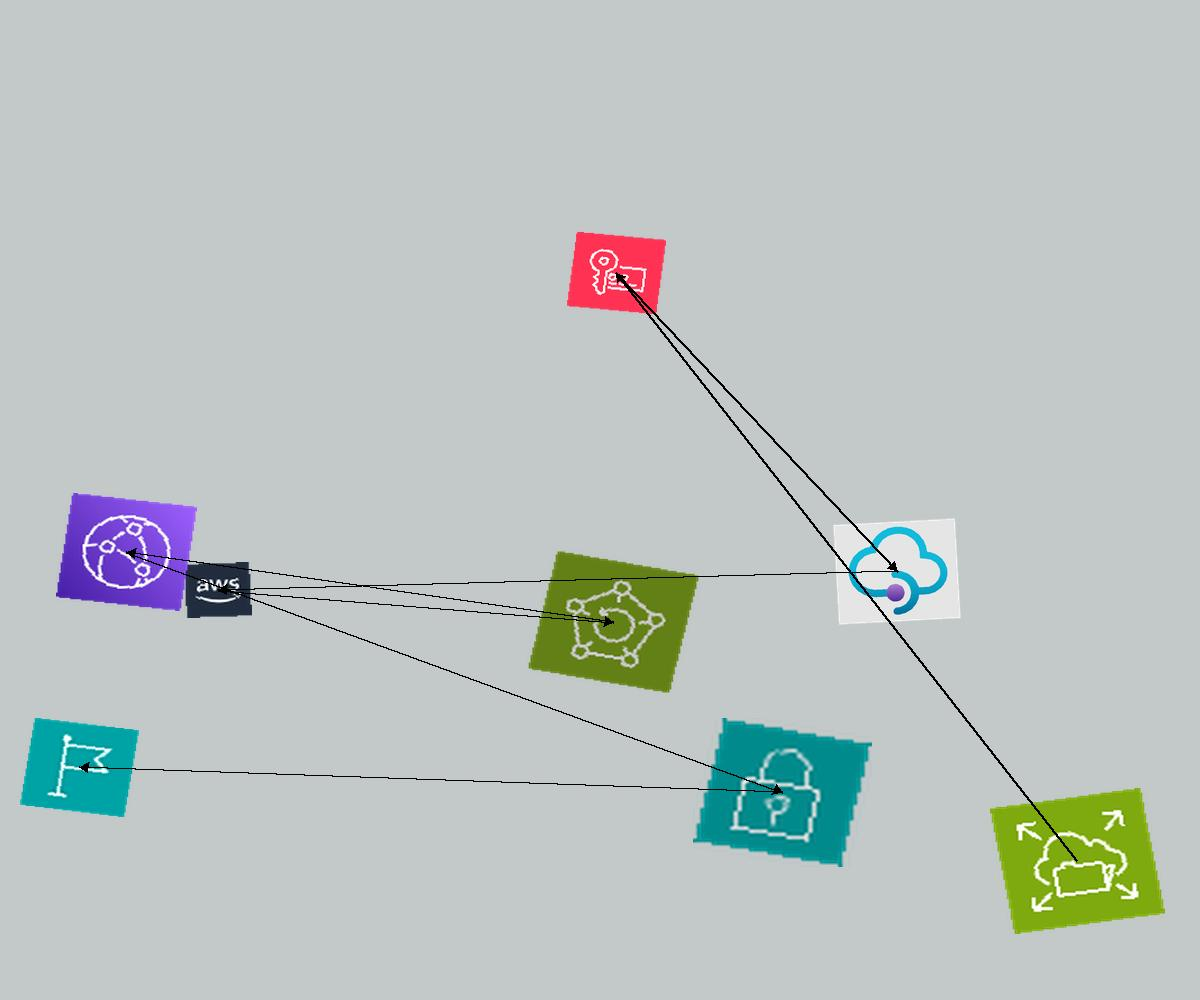AWS-Backup: (527, 550, 700, 694)
AWS-Cloud-logo: (184, 562, 252, 618)
AWS-CloudFront: (56, 493, 197, 611)
AWS-EFS: (990, 788, 1165, 934)
AWS-Key-Management-Service: (566, 231, 667, 315)
AWS-Private-subnet: (693, 718, 872, 867)
AWS-Region: (19, 717, 140, 818)
Azure_api_gateway: (833, 518, 961, 625)
